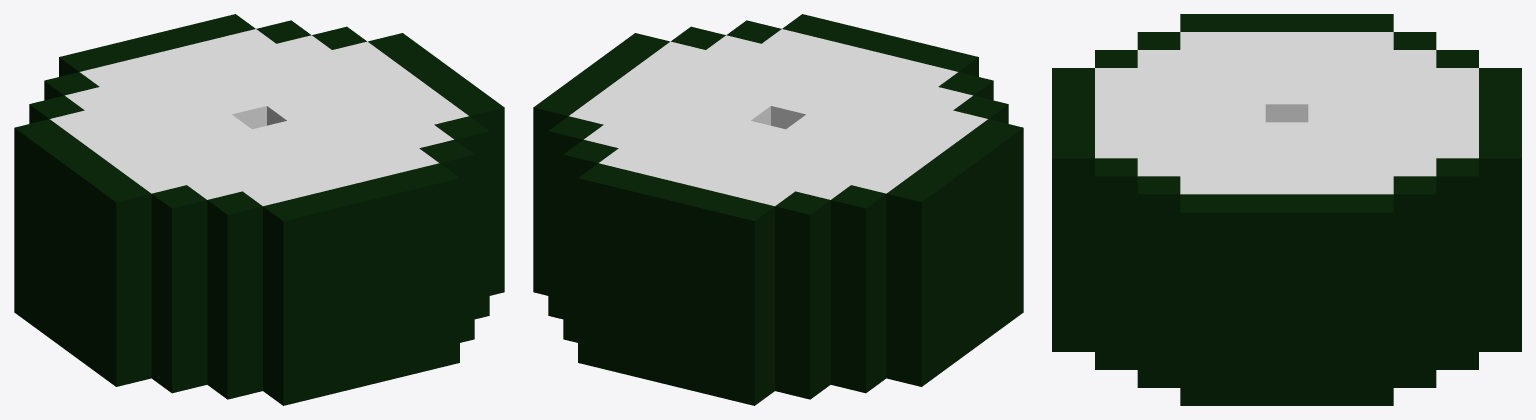
The model's file is Sushi_Roll.FBX.
The picture shows the model from 3 angles, left to right: view 1: azimuth 30°, elevation 25°; view 2: azimuth 150°, elevation 25°; view 3: azimuth 270°, elevation 25°; orthographic projection. The views are drawn at different scales.
Visible parts, largest first — view 1: Sushi Roll; view 2: Sushi Roll; view 3: Sushi Roll.
Boxes of the visible parts, x1,y1,x2,y2 form: Sushi Roll: [14, 14, 504, 405]; Sushi Roll: [533, 14, 1023, 405]; Sushi Roll: [1052, 14, 1521, 405].
Size of the model in its own units: 1.1 by 0.5 by 1.1.
